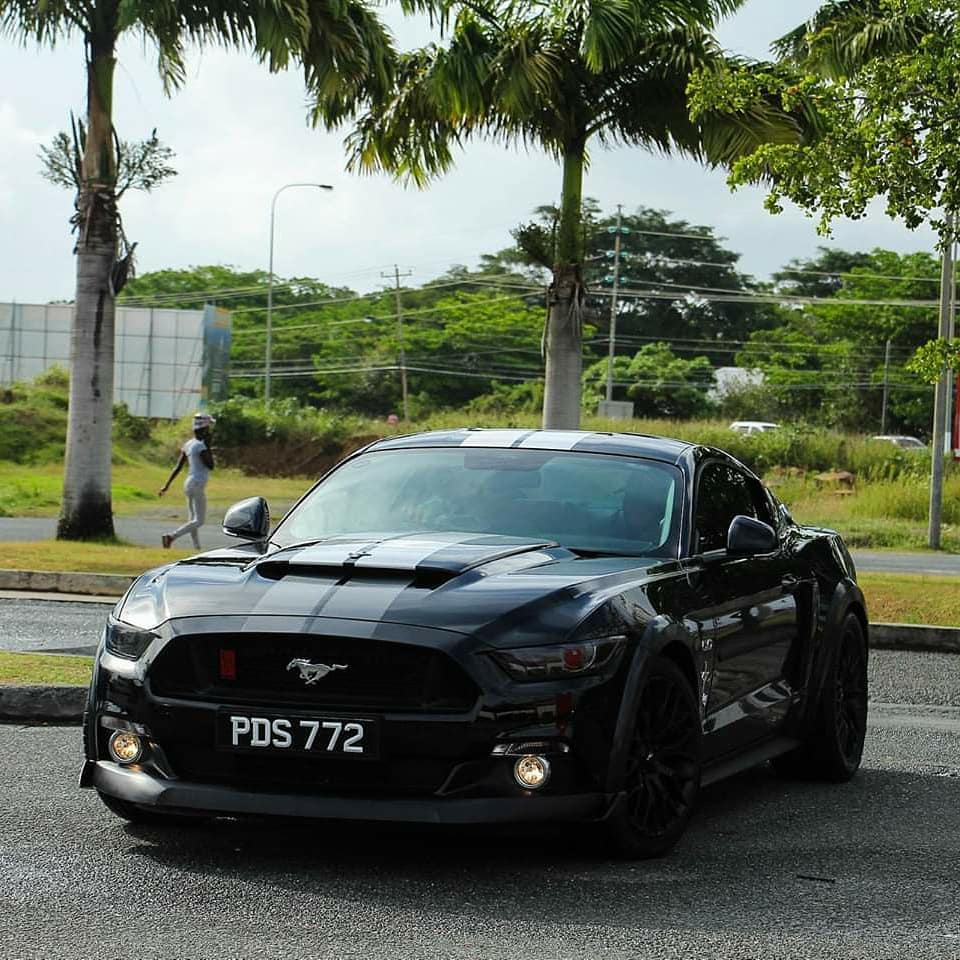License-Plate: (217, 711, 376, 747)
